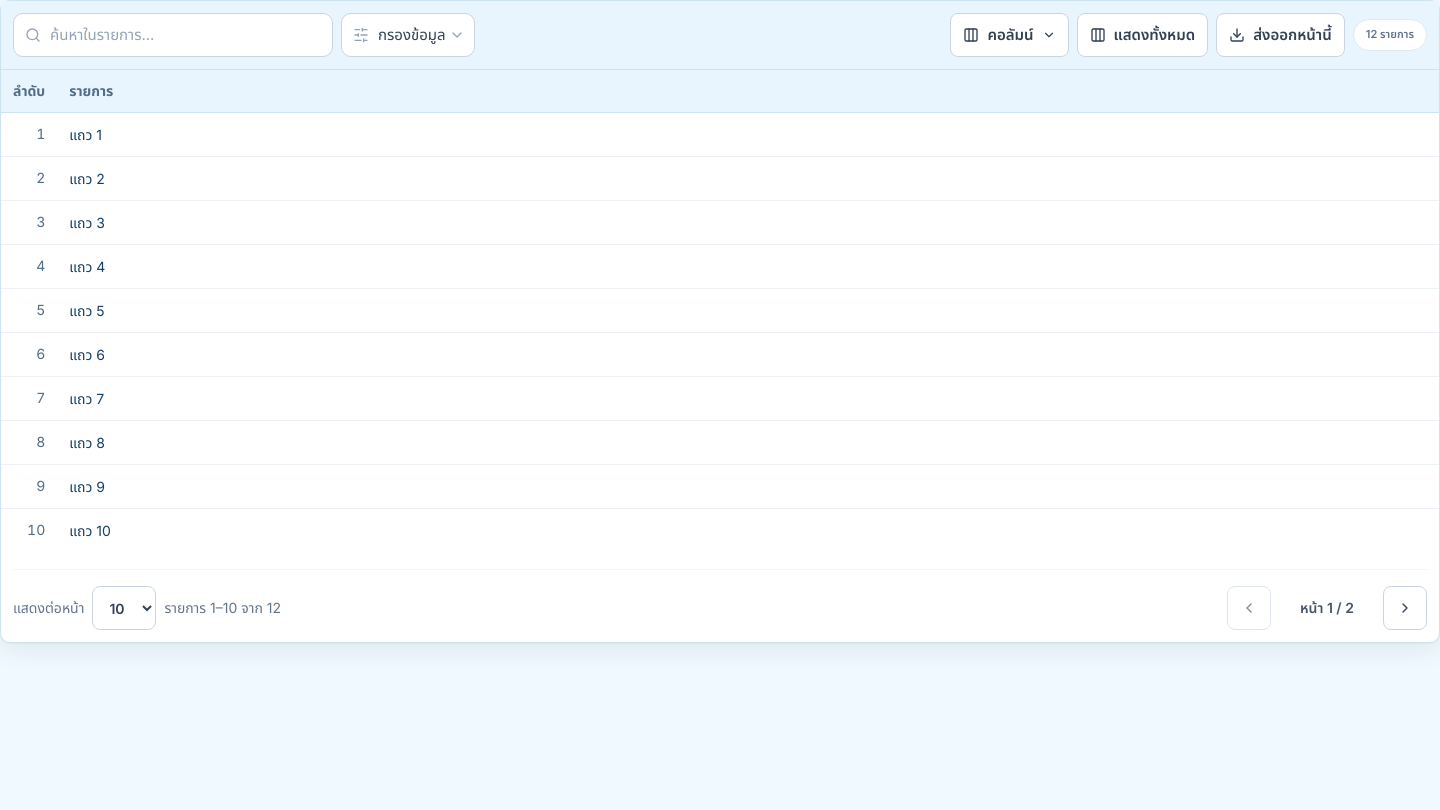
Test: DataTable › uses the global 10-row pagination and changes only table rows
This screenshot has width=1440, height=810.
Expected: the text "แถว 1" is shown, [69,126,102,143]
Expected: the text "แถว 11" is not shown
Click the button named "หน้าถัดไป" at point(1405, 608), box [1383,586,1427,630]
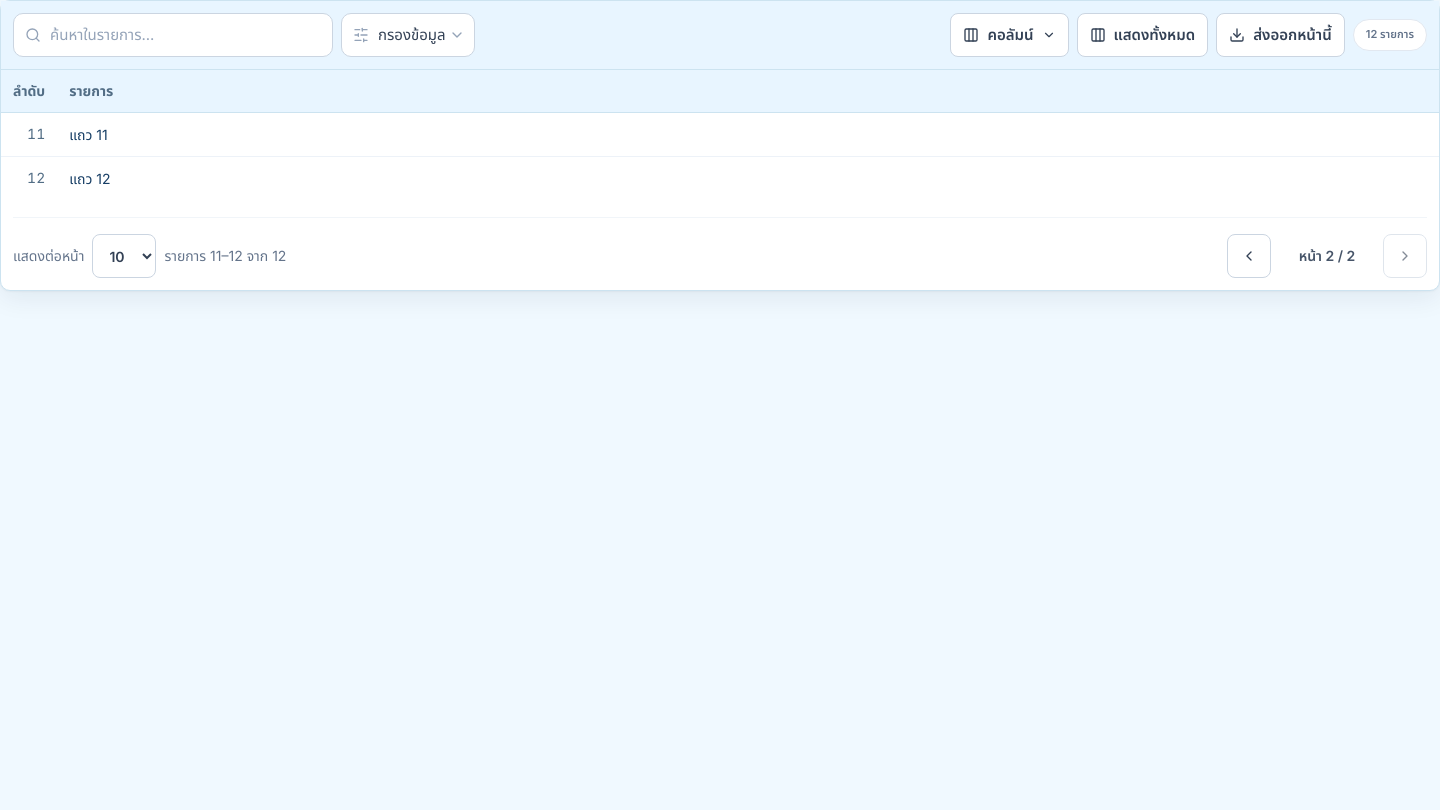
Expected: the text "แถว 11" is shown, [69,126,108,143]
Expected: the text "หน้า 2 / 2" is shown, [1299,247,1355,264]
